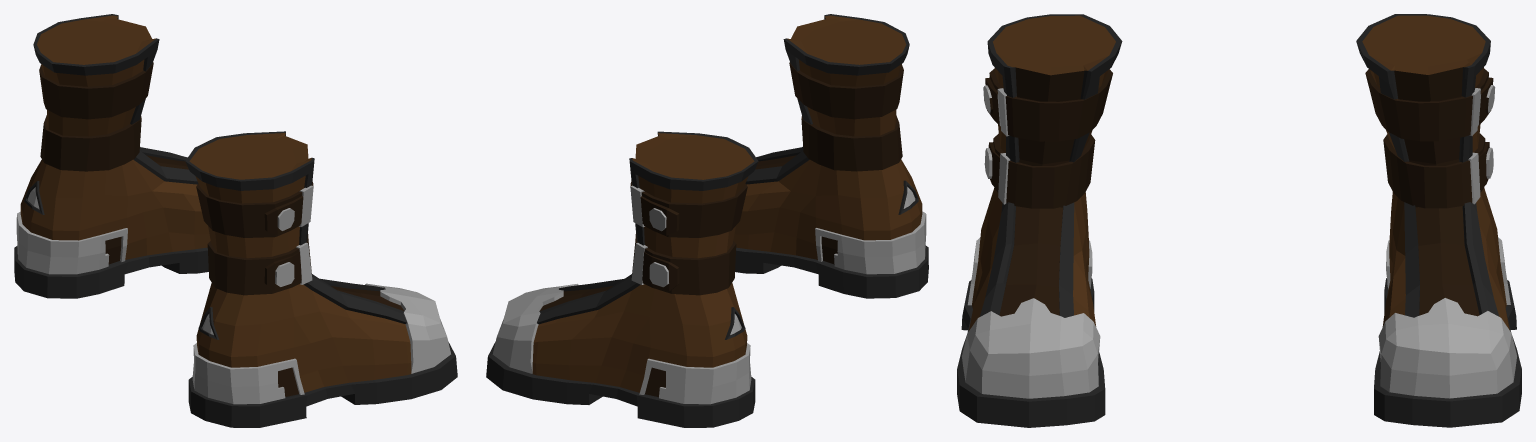
Rendered from Bota.fbx.
The picture shows the model from 3 angles, left to right: view 1: azimuth 30°, elevation 25°; view 2: azimuth 150°, elevation 25°; view 3: azimuth 270°, elevation 25°; orthographic projection. The views are drawn at different scales.
Visible parts, largest first — view 1: Bota; view 2: Bota; view 3: Bota.
Boxes of the visible parts, x1,y1,x2,y2 form: Bota: (14, 14, 457, 427); Bota: (486, 14, 928, 427); Bota: (957, 14, 1521, 427).
Bounding box in the file's own units: 152 × 141 × 254.
